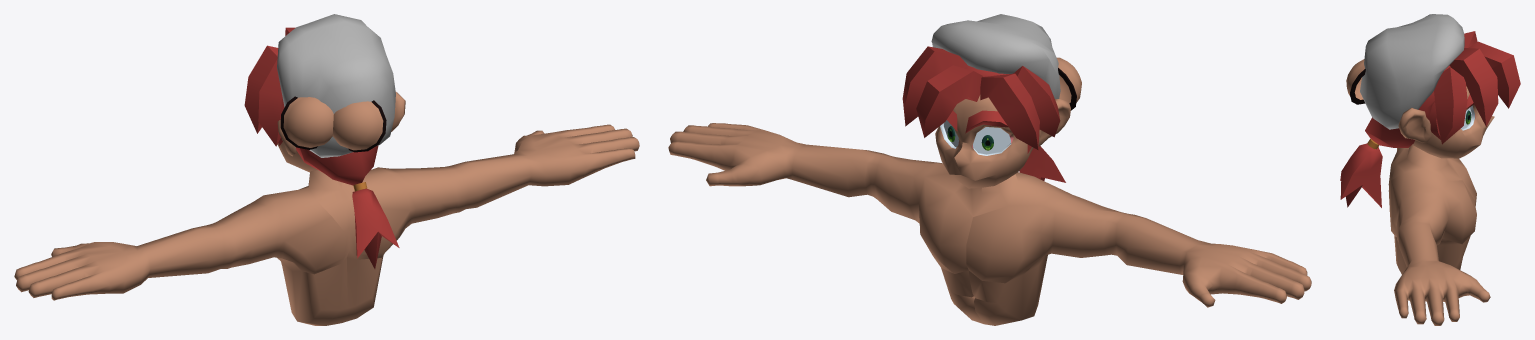
File: Player.fbx
The picture shows the model from 3 angles, left to right: view 1: azimuth 30°, elevation 25°; view 2: azimuth 150°, elevation 25°; view 3: azimuth 270°, elevation 25°; orthographic projection. The views are drawn at different scales.
Parts seen in each view (by area): view 1: Torso, Hat, Eyelid Top, Pony Tail, Hair Blob, Hair.004, Hair.003, Ears; view 2: Torso, Hat, Head Shape, Hair.002, Hair.003, Hair.001, Hair.004, Pony Tail, Eyelid Top, Eyebrows, Ears; view 3: Torso, Hat, Hair.001, Pony Tail, Hair.005, Head Shape, Hair.002, Hair Blob, Ears, Eyelid Top, Sideburns, Hair.003.
Part boxes in pixels (left/top/right/bottom): Torso: left=14, top=124, right=639, bottom=325; Hat: left=277, top=14, right=395, bottom=157; Eyelid Top: left=280, top=96, right=386, bottom=152; Pony Tail: left=352, top=188, right=399, bottom=268; Hair Blob: left=296, top=145, right=378, bottom=185; Hair.004: left=258, top=59, right=284, bottom=146; Hair.003: left=244, top=45, right=278, bottom=133; Ears: left=277, top=92, right=405, bottom=156; Torso: left=668, top=123, right=1311, bottom=325; Hat: left=931, top=14, right=1060, bottom=98; Head Shape: left=935, top=95, right=1033, bottom=188; Hair.002: left=916, top=65, right=982, bottom=137; Hair.003: left=980, top=73, right=1039, bottom=149; Hair.001: left=902, top=46, right=967, bottom=126; Hair.004: left=1013, top=66, right=1060, bottom=137; Pony Tail: left=1019, top=146, right=1065, bottom=182; Eyelid Top: left=1057, top=57, right=1081, bottom=110; Eyebrows: left=947, top=110, right=1008, bottom=133; Ears: left=1033, top=99, right=1070, bottom=147; Torso: left=1388, top=144, right=1490, bottom=325; Hat: left=1360, top=14, right=1464, bottom=129; Hair.001: left=1449, top=48, right=1498, bottom=126; Pony Tail: left=1340, top=143, right=1382, bottom=207; Hair.005: left=1434, top=67, right=1467, bottom=144; Head Shape: left=1412, top=86, right=1494, bottom=158; Hair.002: left=1468, top=41, right=1520, bottom=108; Hair Blob: left=1365, top=65, right=1450, bottom=147; Ears: left=1398, top=107, right=1431, bottom=142; Eyelid Top: left=1346, top=59, right=1365, bottom=104; Sideburns: left=1427, top=102, right=1440, bottom=139; Hair.003: left=1464, top=31, right=1477, bottom=47.
Size of the model in its own units: 1090 by 494 by 311.
